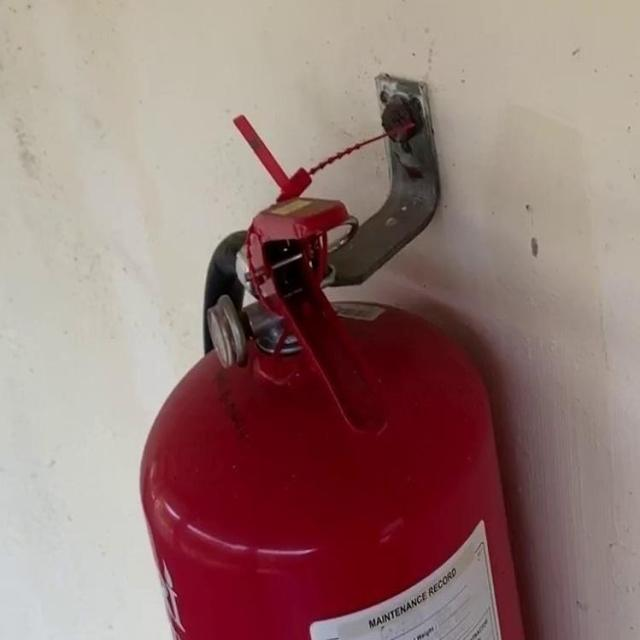fire_extinguisher: (130, 108, 540, 639)
